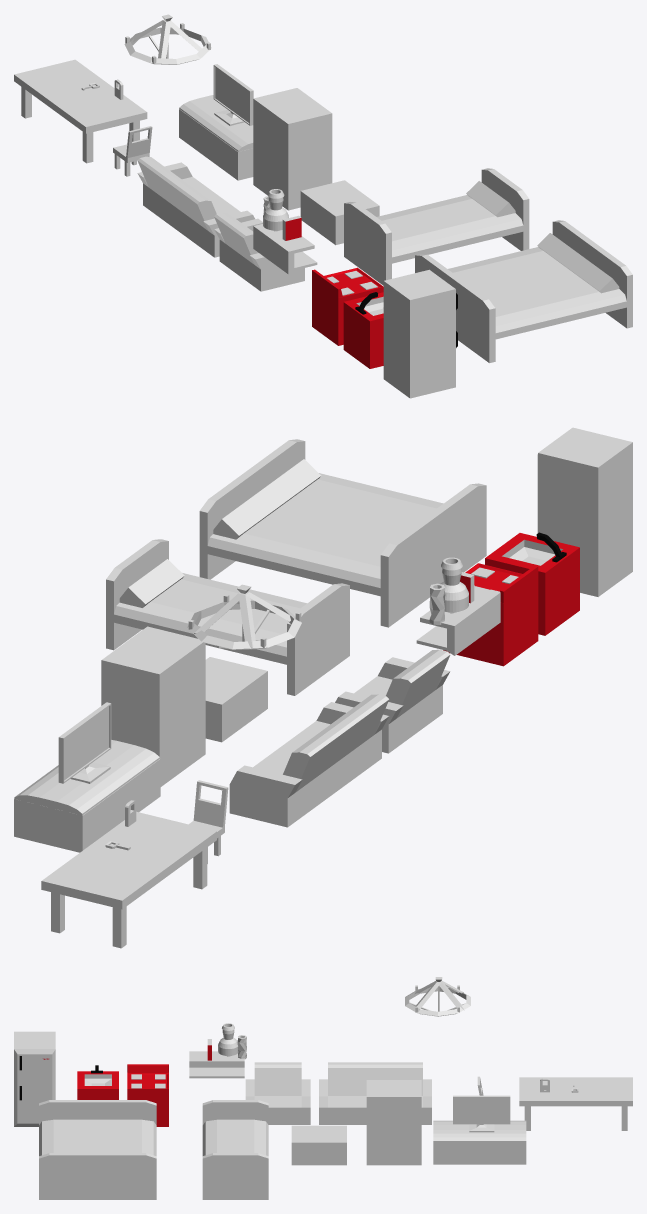
Rendered from Env.fbx.
3 renders of one model, top to bottom at view 1: azimuth 30°, elevation 25°; view 2: azimuth 150°, elevation 25°; view 3: azimuth 270°, elevation 25°, orthographic. The views are drawn at different scales.
Parts seen in each view (by area): view 1: Cube.002, Cube.011, Cube.015, Cube.009, Cube, Cube.004, Cube.005, Cube.016, Cube.010, Cube.013, Cube.006, Cube.003 (+5 smaller); view 2: Cube.002, Cube.011, Cube.015, Cube.009, Cube.004, Cube, Cube.005, Cube.006, Cube.013, Cube.016, Cube.007, Cube.010 (+5 smaller); view 3: Cube.002, Cube.011, Cube.009, Cube.004, Cube, Cube.015, Cube.005, Cube.010, Cube.006, Cube.008, Cube.016, Cube.007 (+4 smaller).
Boxes of the visible parts, x1,y1,x2,y2 form: Cube.002: (415,220,632,363); Cube.011: (344,168,529,285); Cube.015: (383,269,457,398); Cube.009: (253,88,332,210); Cube: (14,59,147,163); Cube.004: (137,156,254,257); Cube.005: (214,213,304,291); Cube.016: (312,267,383,345); Cube.010: (300,180,379,245); Cube.013: (343,292,383,368); Cube.006: (179,109,253,180); Cube.003: (124,14,211,64); Cube.002: (199,439,486,627); Cube.011: (106,539,349,695); Cube.015: (537,427,632,596); Cube.009: (101,626,205,786); Cube.004: (229,694,389,827); Cube: (41,811,216,948); Cube.005: (335,649,450,753); Cube.006: (14,759,160,852); Cube.013: (485,532,579,635); Cube.016: (443,563,538,666); Cube.007: (14,740,159,815); Cube.010: (205,657,267,742); Cube.002: (39,1100,156,1199); Cube.011: (202,1100,268,1199); Cube.009: (366,1080,421,1165); Cube.004: (319,1062,431,1124); Cube: (519,1077,632,1130); Cube.015: (14,1031,55,1126); Cube.005: (245,1062,310,1124); Cube.010: (291,1125,346,1165); Cube.006: (433,1142,526,1164); Cube.008: (453,1095,510,1132); Cube.016: (127,1064,168,1126); Cube.007: (433,1120,526,1141).
Bounding box in the file's own units: 1848 × 1258 × 4963.
